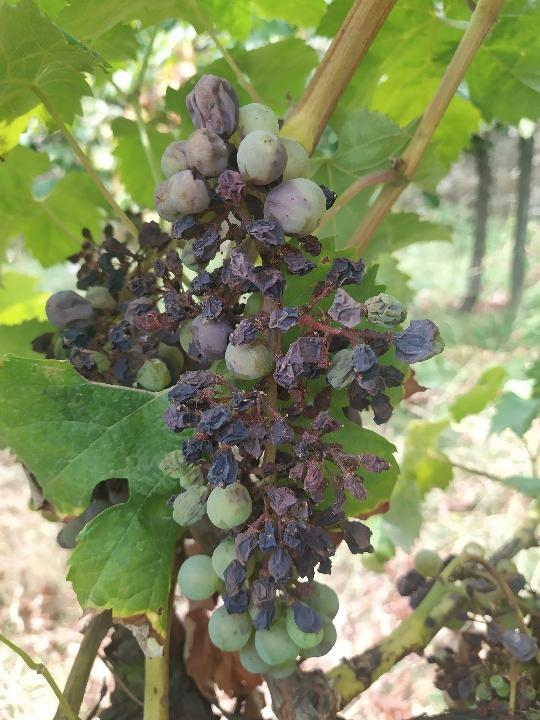grape: (42, 69, 448, 682)
